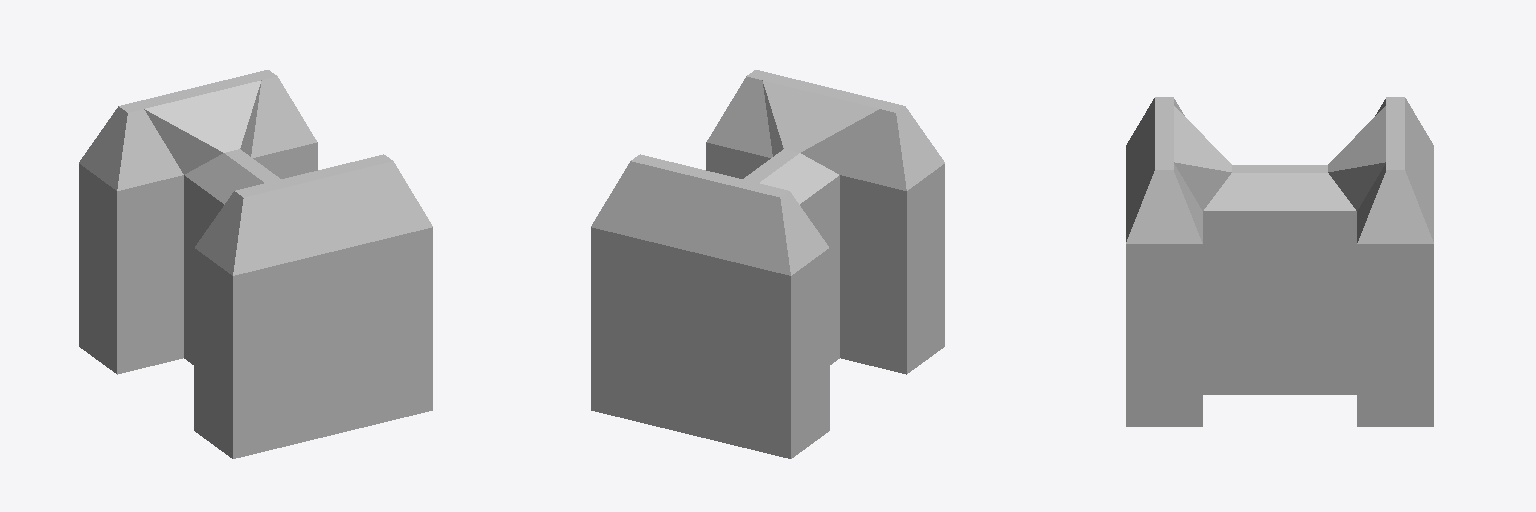
The model's file is hale.obj.
3 views of the same model, side by side, from view 1: azimuth 30°, elevation 25°; view 2: azimuth 150°, elevation 25°; view 3: azimuth 270°, elevation 25° (orthographic).
Visible parts, largest first — view 1: Cube; view 2: Cube; view 3: Cube.
Part boxes in pixels (bbox=[...]): Cube: bbox=[79, 70, 432, 458]; Cube: bbox=[591, 70, 944, 458]; Cube: bbox=[1126, 97, 1433, 426].
Size of the model in its own units: 6 by 7 by 8.